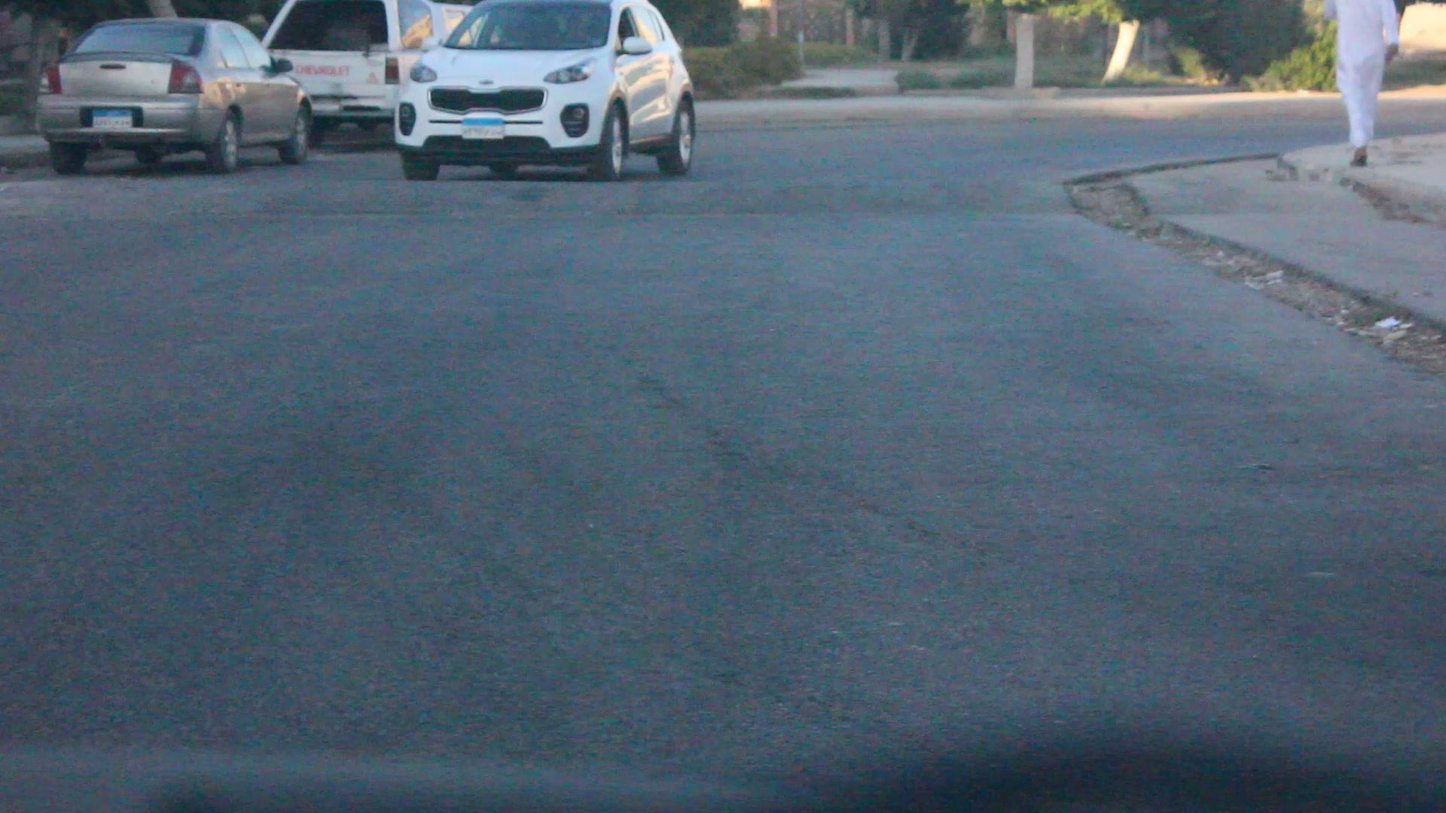Bump: (0, 158, 1077, 222)
